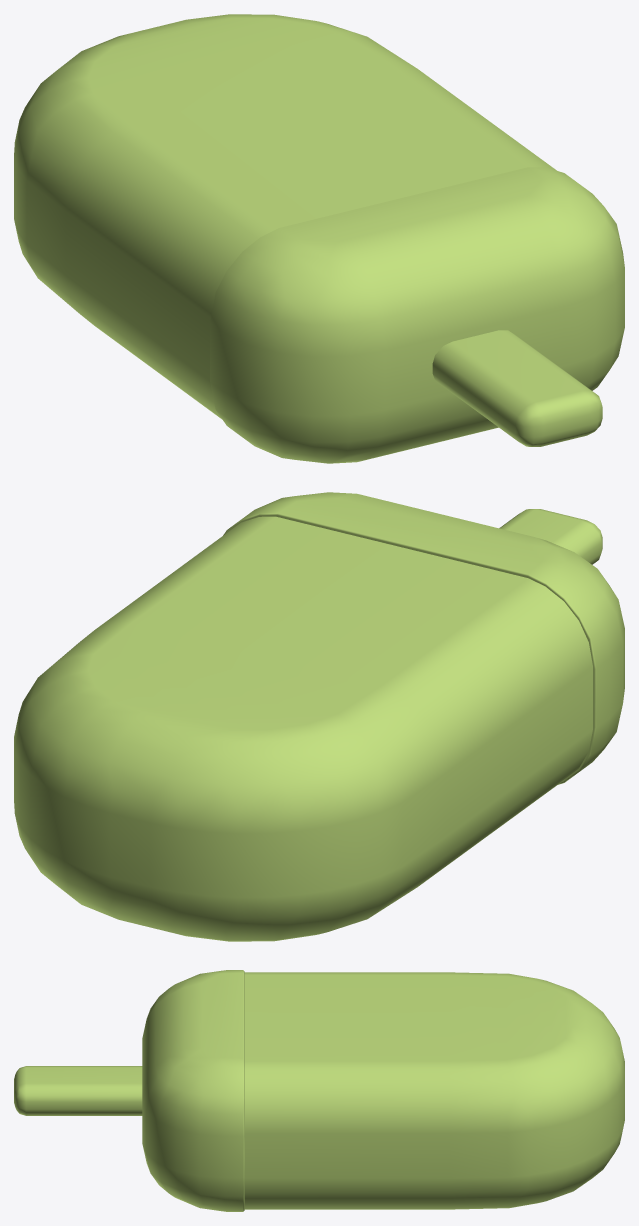
The model's file is T1_S_Popsicle_Tx.fbx.
The picture shows the model from 3 angles, top to bottom: view 1: azimuth 30°, elevation 25°; view 2: azimuth 150°, elevation 25°; view 3: azimuth 270°, elevation 25°; orthographic projection. The views are drawn at different scales.
Parts seen in each view (by area): view 1: T1_S_Popsicle_Tx; view 2: T1_S_Popsicle_Tx; view 3: T1_S_Popsicle_Tx.
Part boxes in pixels (<box>): T1_S_Popsicle_Tx: <box>14,14,624,463</box>; T1_S_Popsicle_Tx: <box>14,492,624,941</box>; T1_S_Popsicle_Tx: <box>14,970,624,1211</box>.
Bounding box in the file's own units: 25.99 × 13.82 × 50.79.
